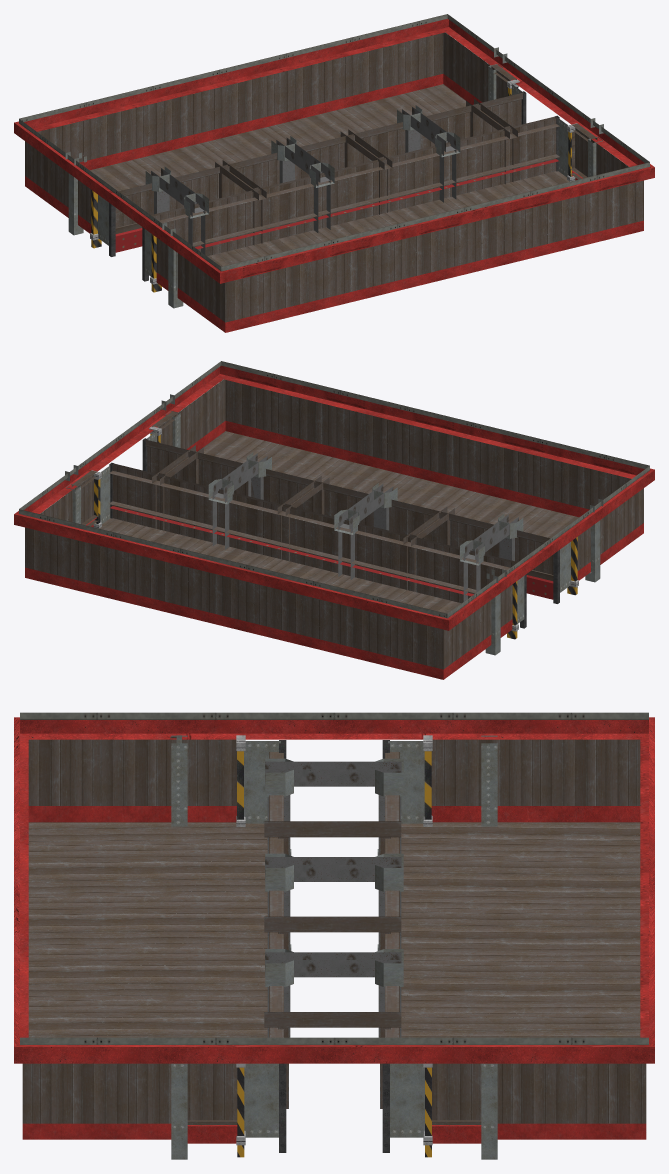
File: Ob_Building2base_RC.fbx
The picture shows the model from 3 angles, top to bottom: view 1: azimuth 30°, elevation 25°; view 2: azimuth 150°, elevation 25°; view 3: azimuth 270°, elevation 25°; orthographic projection. The views are drawn at different scales.
Visible parts, largest first — view 1: Ob_Building2base_RC; view 2: Ob_Building2base_RC; view 3: Ob_Building2base_RC.
Boxes of the visible parts, box(x1,y1,x2,y2) form: Ob_Building2base_RC: box(14, 14, 654, 332); Ob_Building2base_RC: box(14, 361, 654, 679); Ob_Building2base_RC: box(14, 712, 654, 1159).
Size of the model in its own units: 5206 by 906 by 4264.
